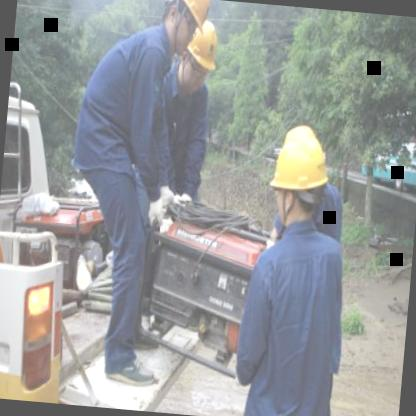helmet: (261, 111, 340, 237), (155, 0, 215, 62), (182, 16, 222, 94)
